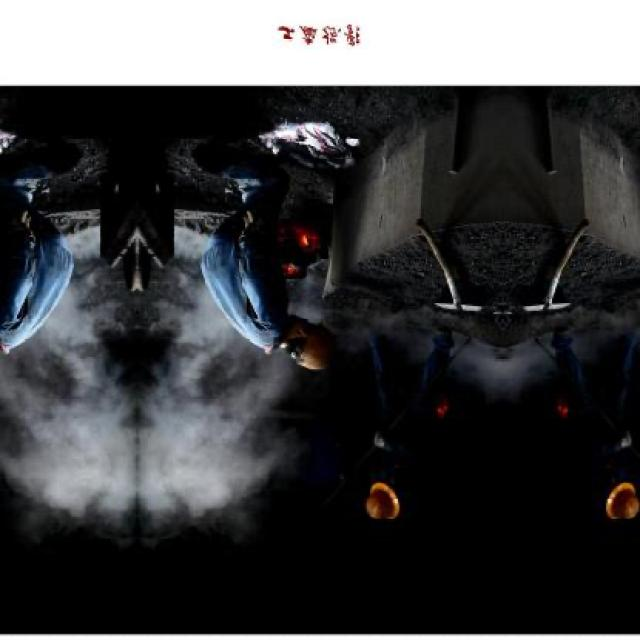con casco: (269, 292, 344, 389), (346, 470, 414, 547)
